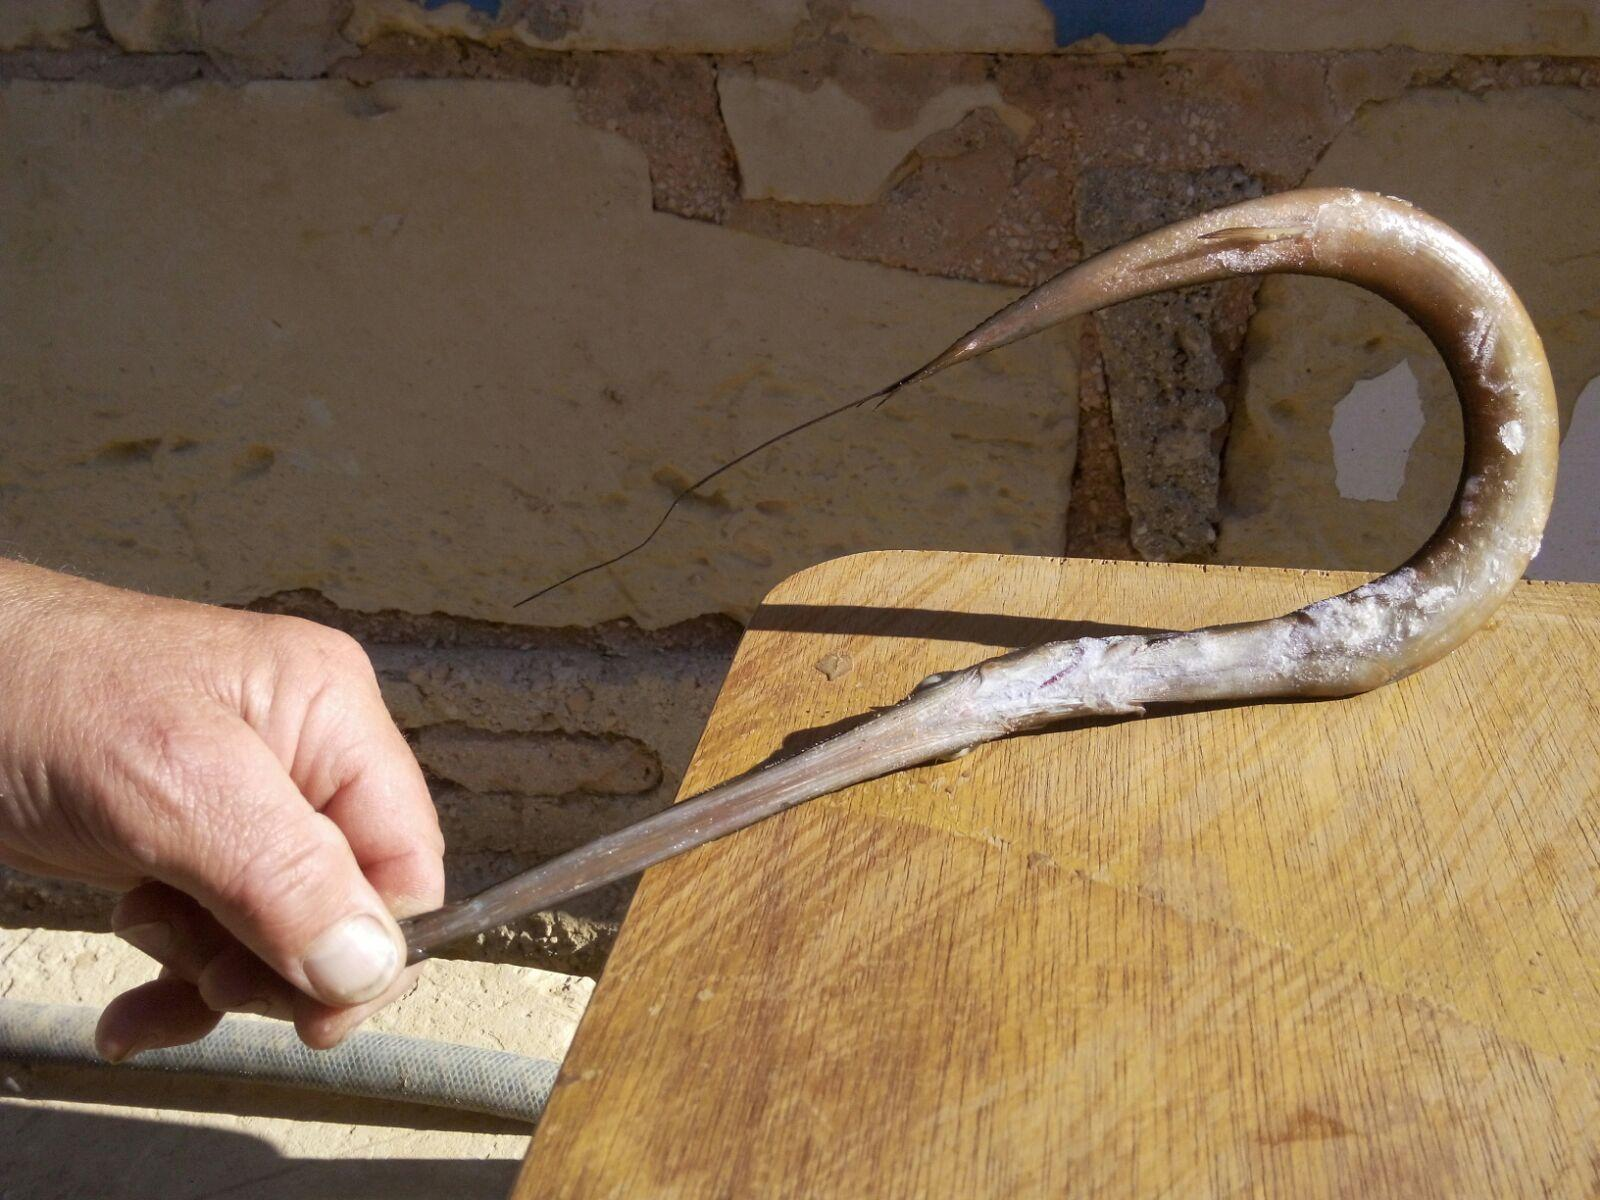Fistularia commersonii: (236, 100, 1572, 1025)
